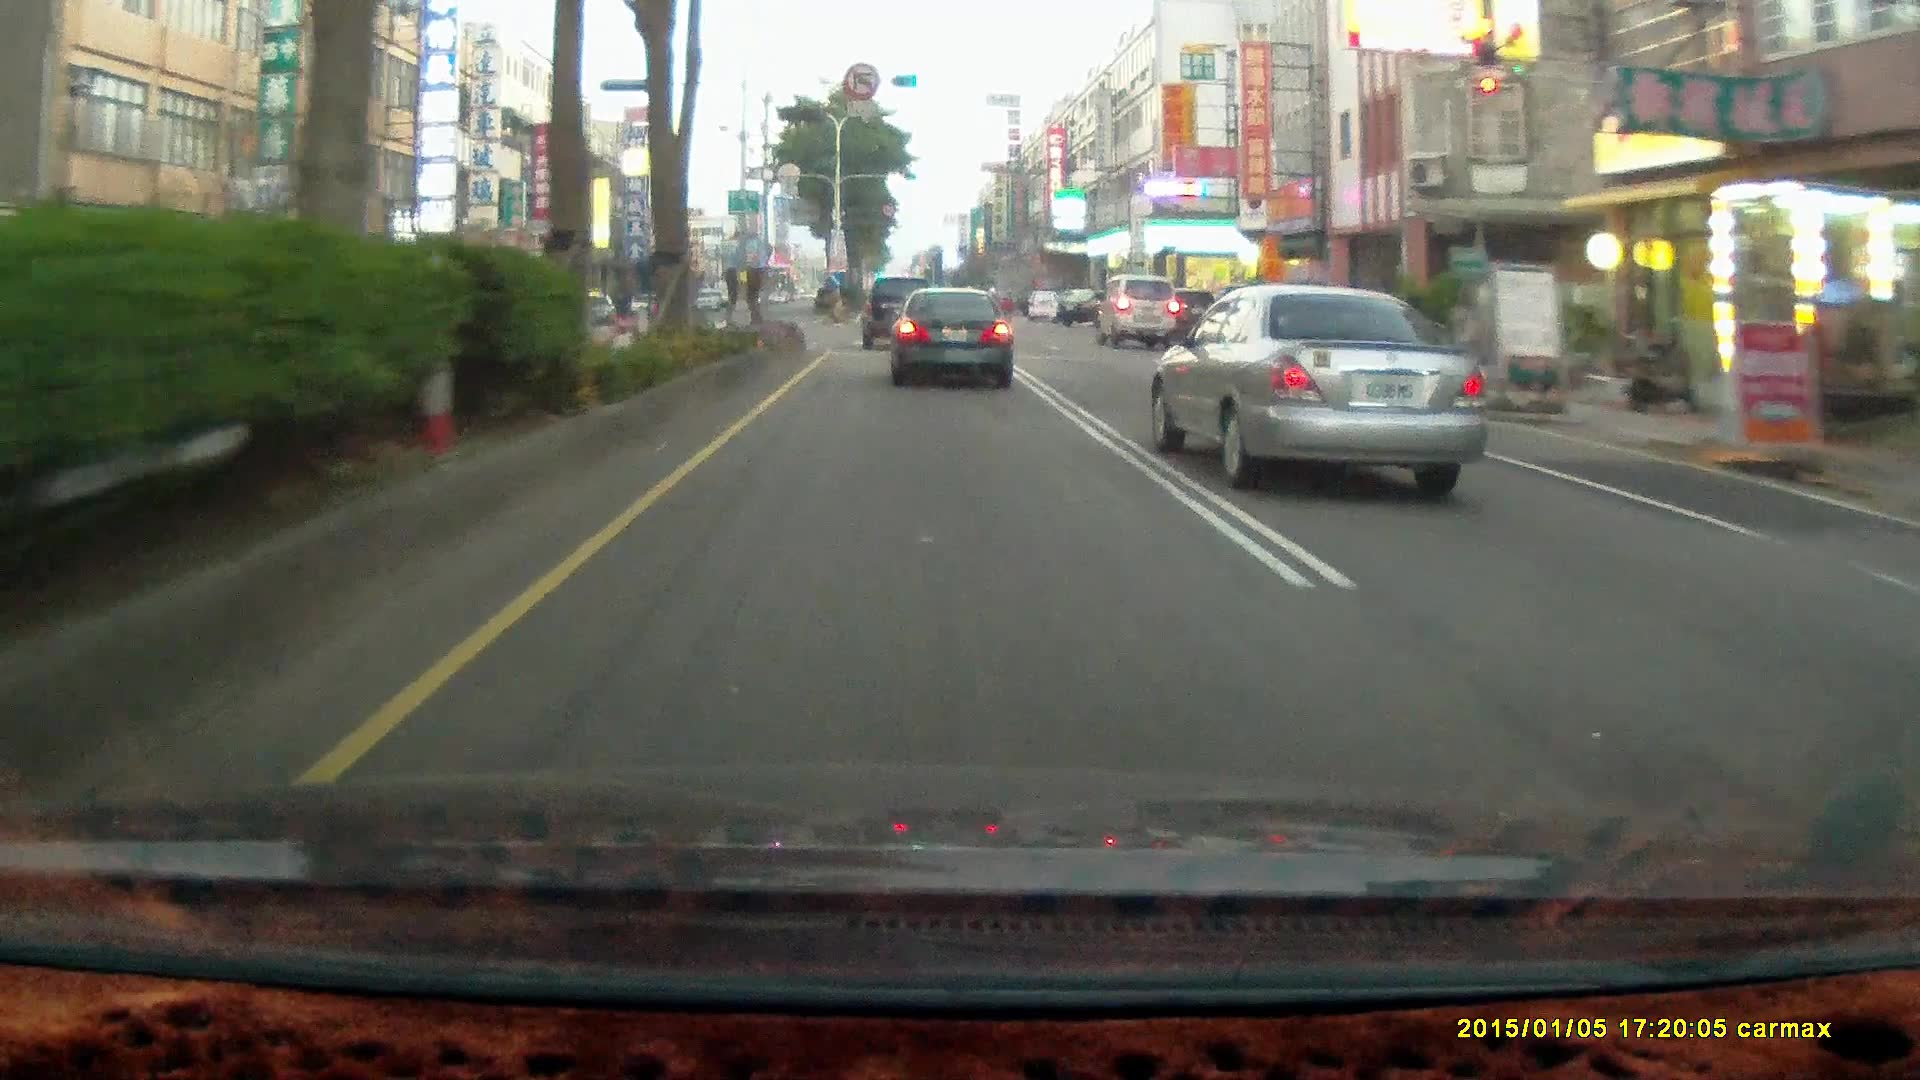vehicle: (1150, 285, 1490, 487), (889, 284, 1018, 392), (889, 282, 1011, 386), (1096, 272, 1180, 351), (1096, 272, 1180, 348), (861, 277, 940, 355), (861, 276, 938, 348), (1058, 285, 1120, 324), (1027, 287, 1062, 318)
